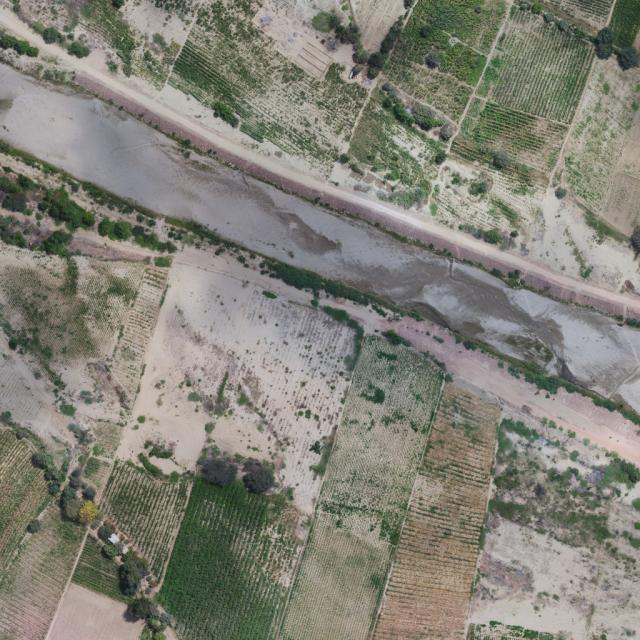agricultural_land: (0, 242, 595, 640), (470, 414, 640, 640), (0, 139, 185, 316)
